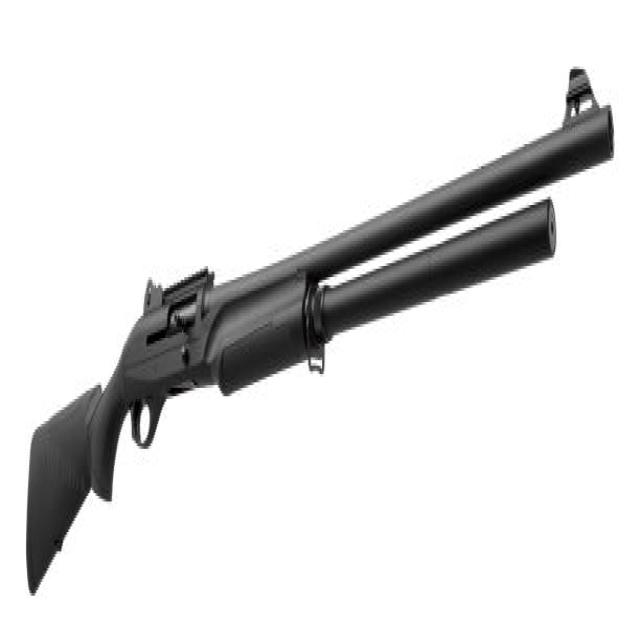rifle: (24, 50, 619, 607)
